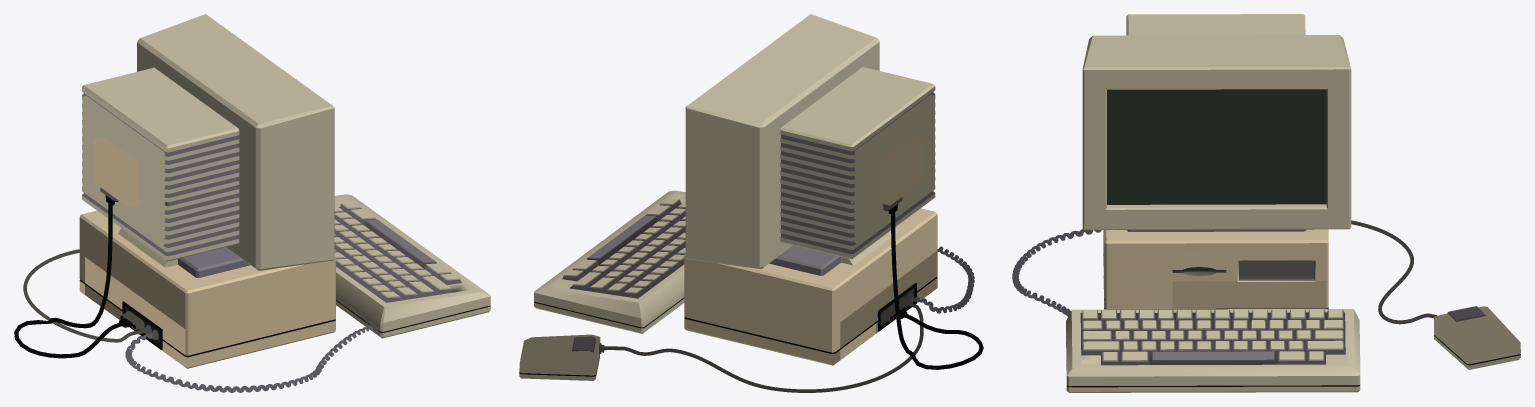
The model's file is RetroComputer.fbx.
3 views of the same model, side by side, from view 1: azimuth 30°, elevation 25°; view 2: azimuth 150°, elevation 25°; view 3: azimuth 270°, elevation 25° (orthographic). The views are drawn at different scales.
Visible parts, largest first — view 1: Apple Macintosh; view 2: Apple Macintosh; view 3: Apple Macintosh.
Part boxes in pixels (x1,y1,x2,y2): Apple Macintosh: [14, 14, 490, 392]; Apple Macintosh: [519, 14, 983, 392]; Apple Macintosh: [1012, 14, 1520, 392].
Bounding box in the file's own units: 893 × 522 × 960.
